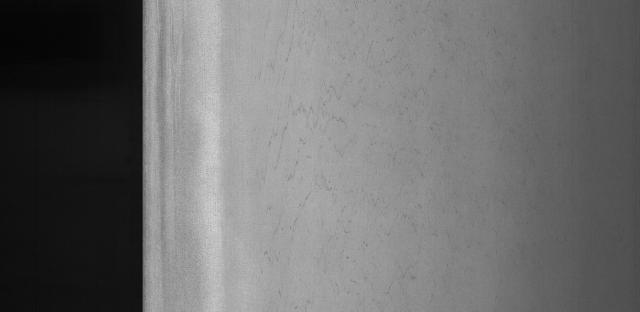silk_spot: (262, 9, 435, 244)
